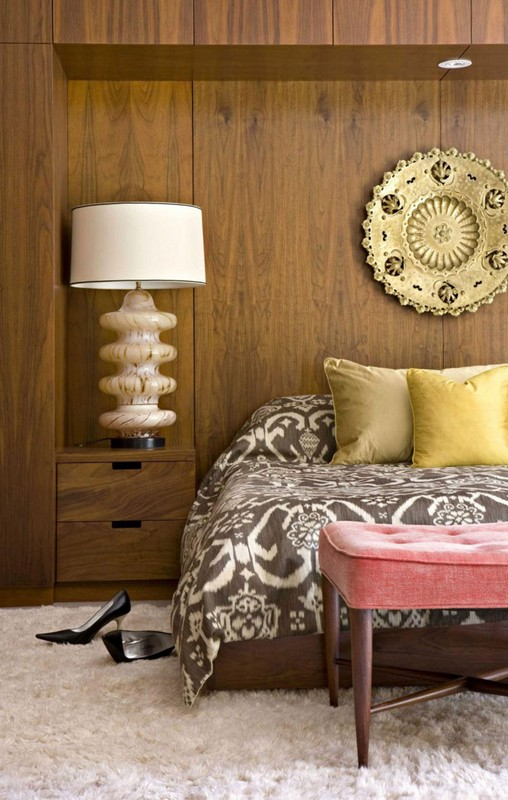bed: (207, 355, 508, 731)
lamp: (62, 192, 212, 471)
stool: (311, 513, 507, 770)
